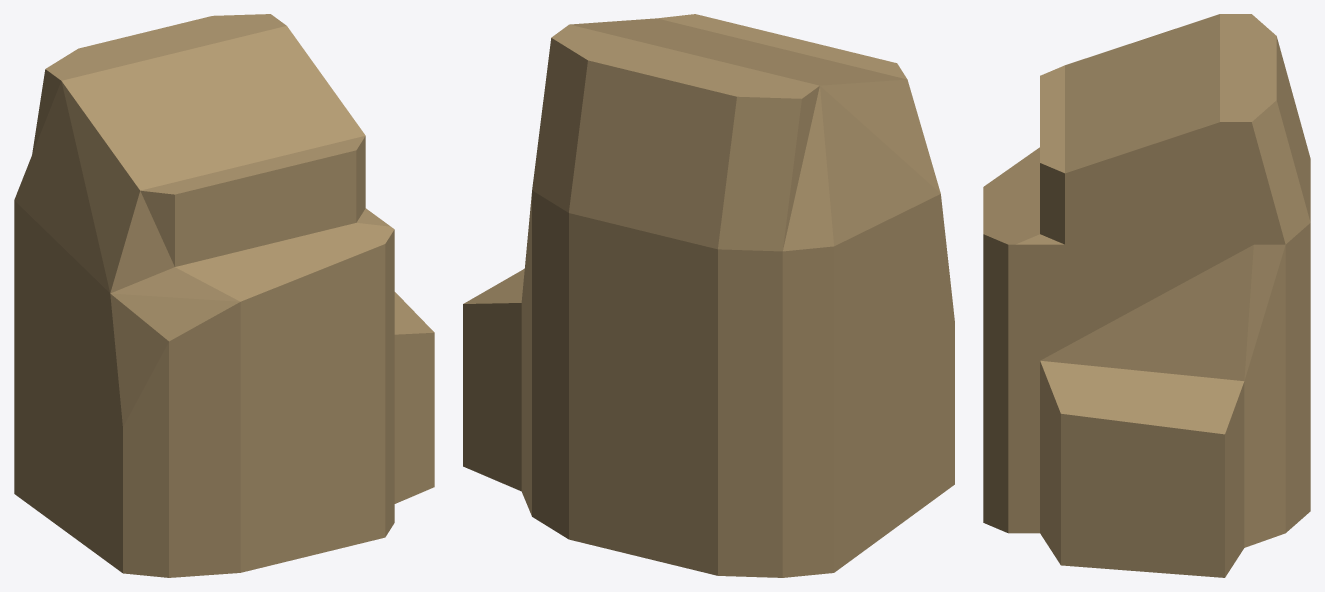
File: Felsen_001.gltf
The picture shows the model from 3 angles, left to right: view 1: azimuth 30°, elevation 25°; view 2: azimuth 150°, elevation 25°; view 3: azimuth 270°, elevation 25°; orthographic projection. The views are drawn at different scales.
Parts seen in each view (by area): view 1: Felsen.001-col; view 2: Felsen.001-col; view 3: Felsen.001-col.
Part boxes in pixels (bbox=[...]): Felsen.001-col: bbox=[14, 14, 434, 577]; Felsen.001-col: bbox=[463, 14, 954, 577]; Felsen.001-col: bbox=[983, 14, 1310, 577].
Bounding box in the file's own units: 1.23 × 1.41 × 1.02.
